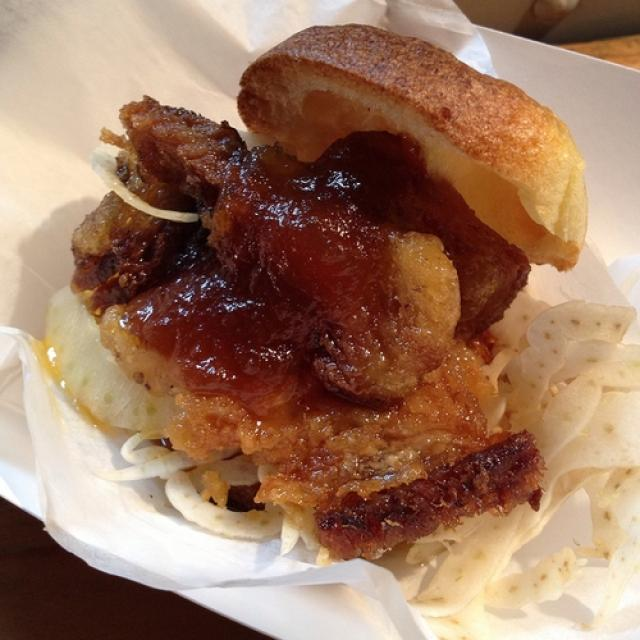牛肉菜式: (37, 50, 567, 564)
